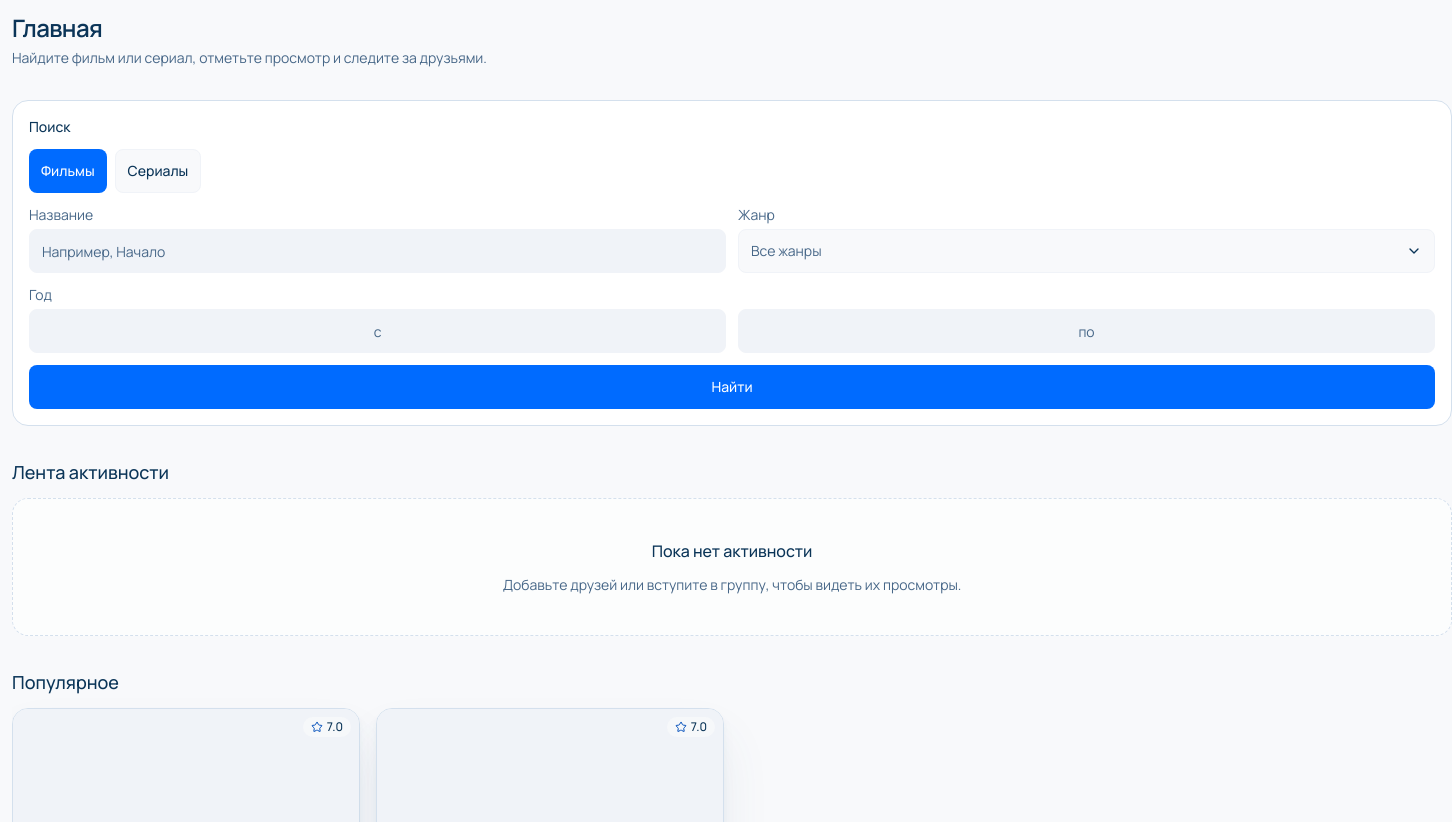
it: HomeView › draws genre options from the props without a client request
The image size is (1452, 822).
Click the text "Жанр": (756, 214) [738,205,775,224]
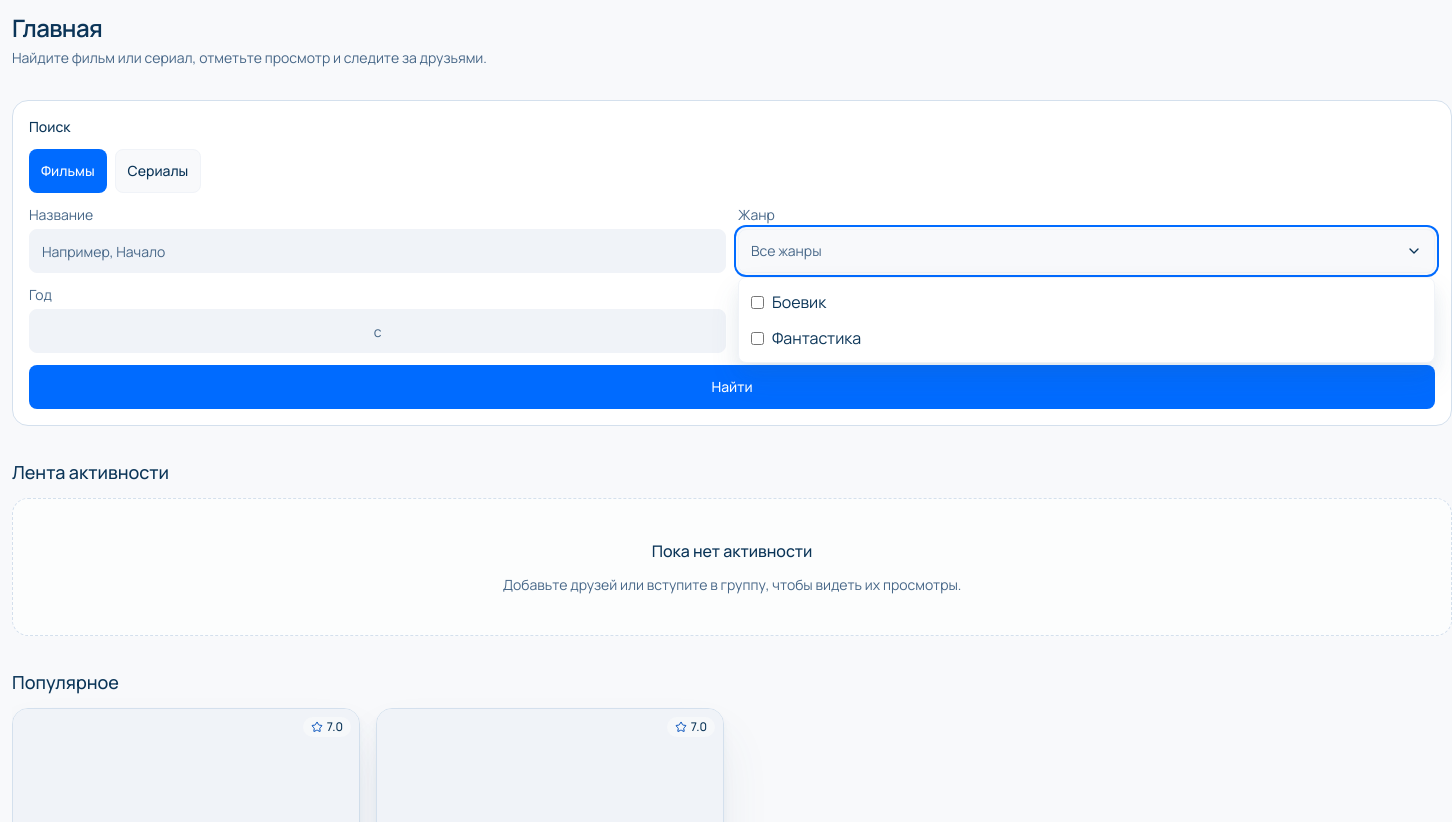
Now the checkbox labelled "Боевик" is shown, box [751,296,764,308]
Click the button "Сериалы": (158, 171) [115,149,201,193]
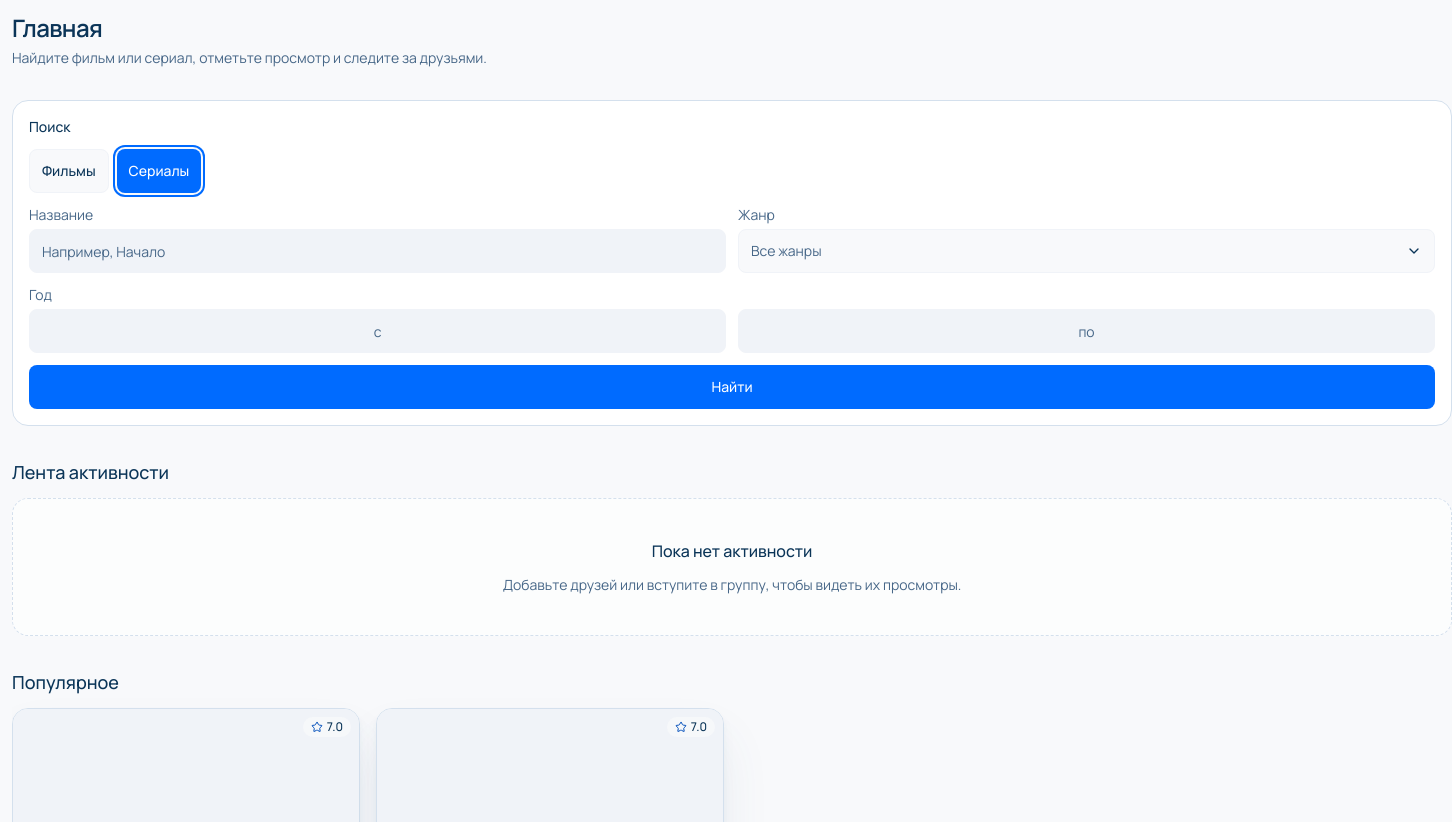
Click the text "Жанр": (756, 214) [738,205,775,224]
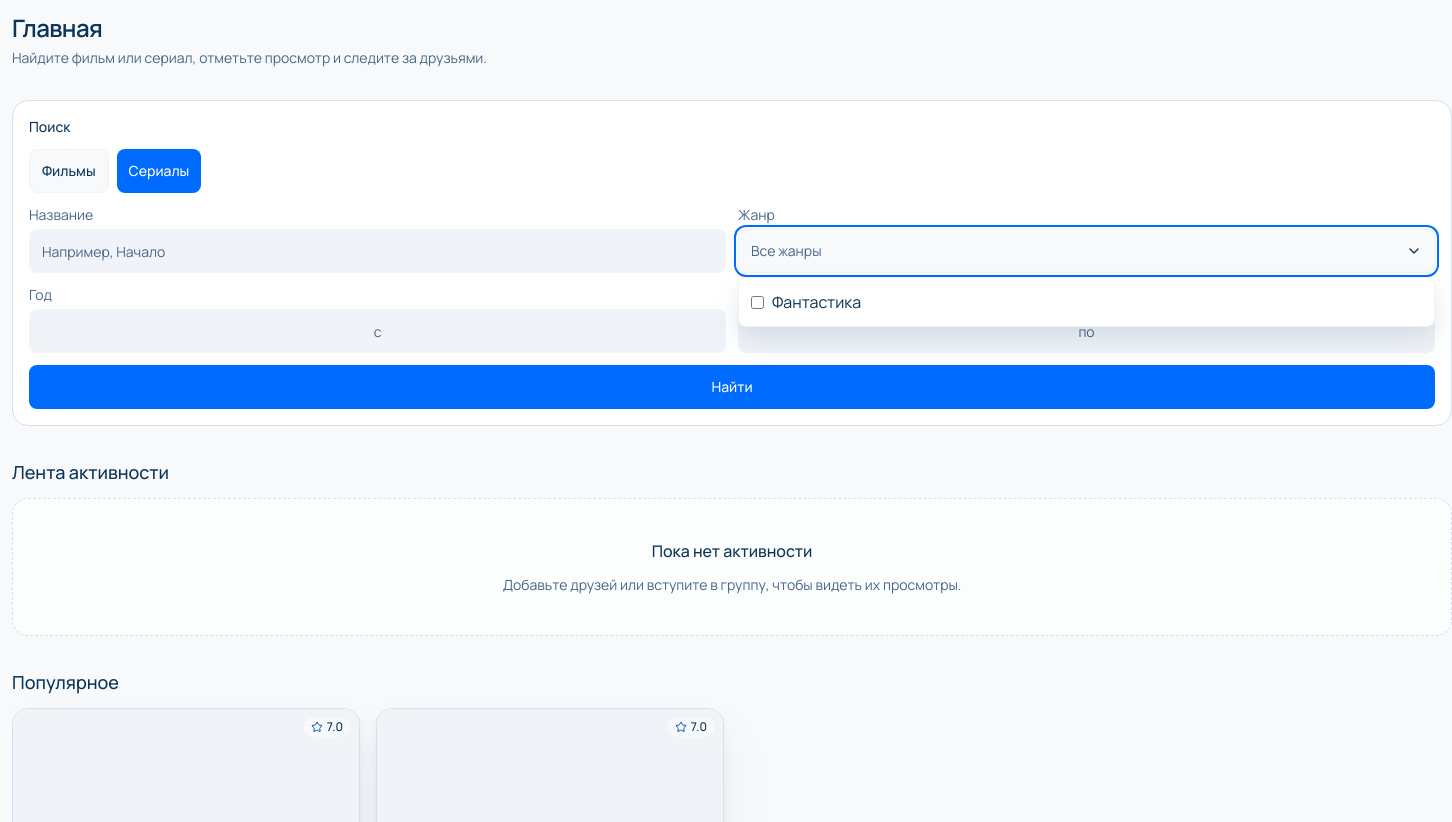
Expected: the text "Боевик" is not shown
Now the checkbox labelled "Фантастика" is shown, box [751,296,764,308]
